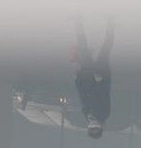person: (70, 10, 117, 138)
